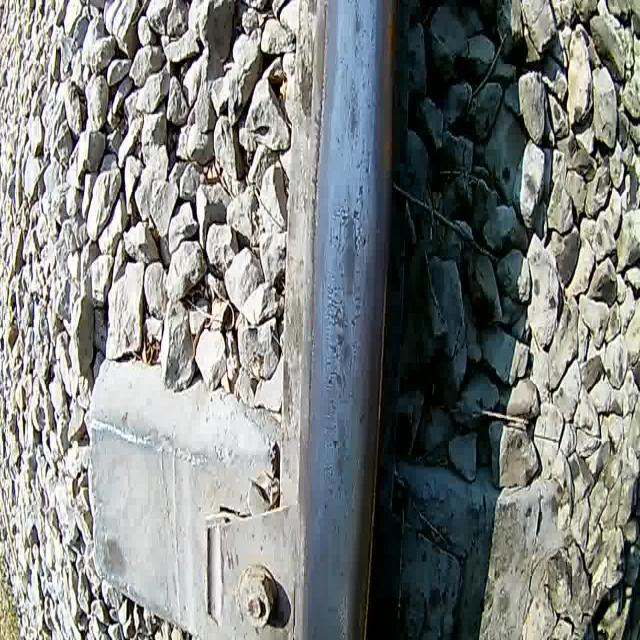Cracks: (329, 197, 352, 255), (353, 200, 369, 262), (320, 294, 344, 320)
Squats: (326, 180, 371, 300), (320, 297, 366, 403), (317, 401, 363, 507), (340, 70, 377, 181), (349, 0, 378, 63)
